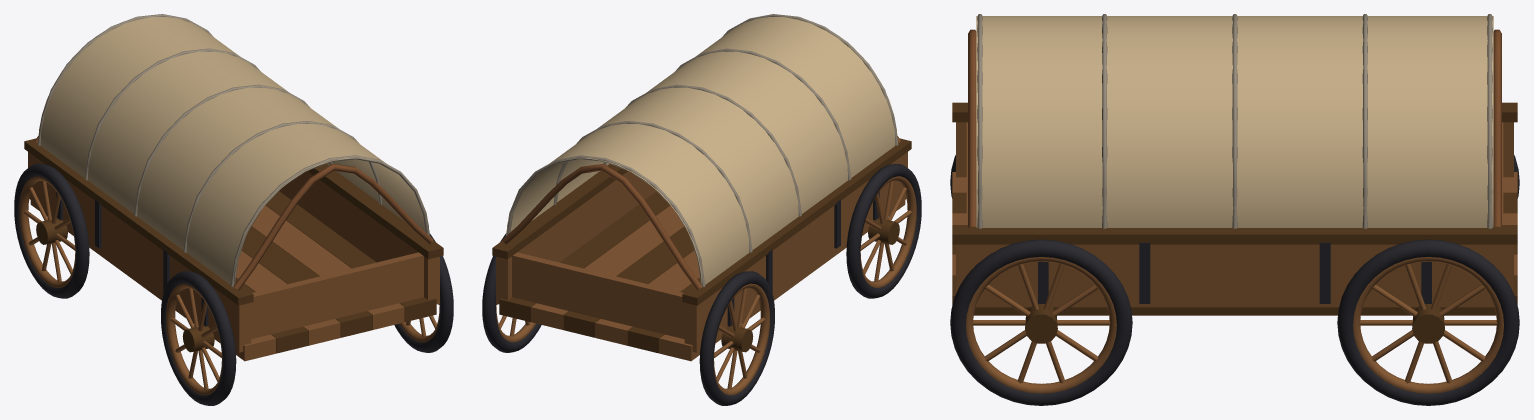
File: mia-wagon.glb
3 views of the same model, side by side, from view 1: azimuth 30°, elevation 25°; view 2: azimuth 150°, elevation 25°; view 3: azimuth 270°, elevation 25° (orthographic). The views are drawn at different scales.
Parts seen in each view (by area): view 1: Body_canvas, Body_oak, Body_wood, Body_iron, Body_mattress-seam, Body_rust; view 2: Body_canvas, Body_oak, Body_wood, Body_iron, Body_mattress-seam, Body_rust; view 3: Body_canvas, Body_oak, Body_iron, Body_wood, Body_mattress-seam, Body_rust.
Part boxes in pixels (left/top/right/bottom): Body_canvas: left=38, top=17, right=429, bottom=284; Body_oak: left=19, top=152, right=439, bottom=395; Body_wood: left=24, top=138, right=443, bottom=353; Body_iron: left=14, top=163, right=453, bottom=405; Body_mattress-seam: left=37, top=14, right=429, bottom=286; Body_rust: left=35, top=136, right=433, bottom=290; Body_canvas: left=506, top=17, right=897, bottom=284; Body_oak: left=496, top=152, right=916, bottom=395; Body_wood: left=492, top=138, right=911, bottom=353; Body_iron: left=482, top=163, right=921, bottom=405; Body_mattress-seam: left=506, top=14, right=898, bottom=286; Body_rust: left=502, top=136, right=900, bottom=290; Body_canvas: left=976, top=16, right=1493, bottom=227; Body_oak: left=952, top=122, right=1517, bottom=393; Body_iron: left=950, top=155, right=1519, bottom=405; Body_wood: left=952, top=102, right=1517, bottom=343; Body_mattress-seam: left=977, top=14, right=1492, bottom=228; Body_rust: left=968, top=29, right=1501, bottom=227.
Size of the model in its own units: 1.89 by 1.77 by 2.97.
